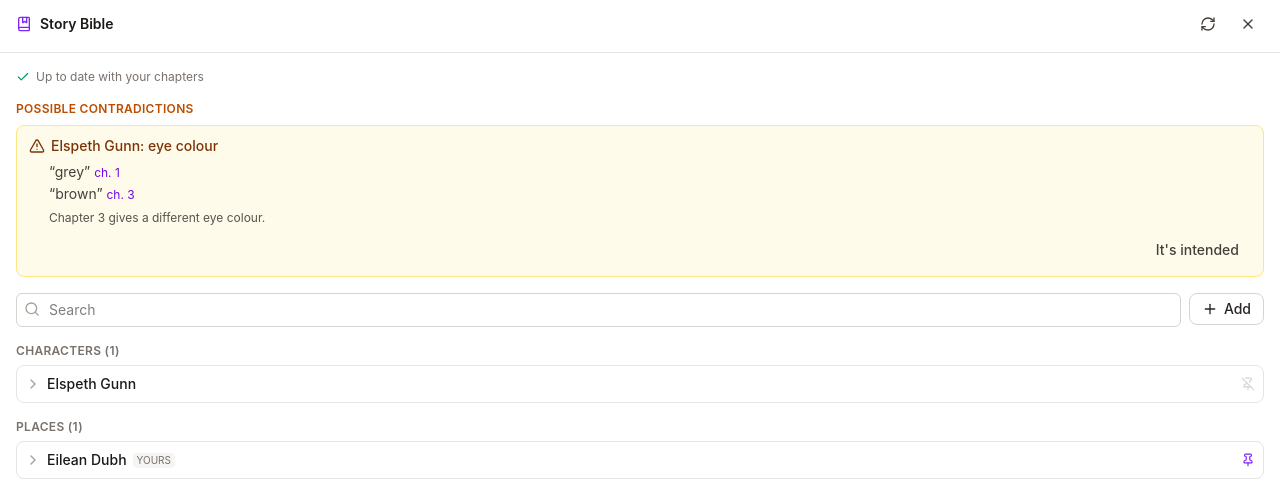
Test: StoryBiblePanel › groups entries by kind and filters them with search
Check: the heading "Characters (1)" is shown, box [16,343,120,358]
Check: the heading "Places (1)" is shown, box [16,419,83,434]
Type "island" into the search field named "Search the Story Bible".
click(598, 310); type("island")  # box [16,293,1181,327]
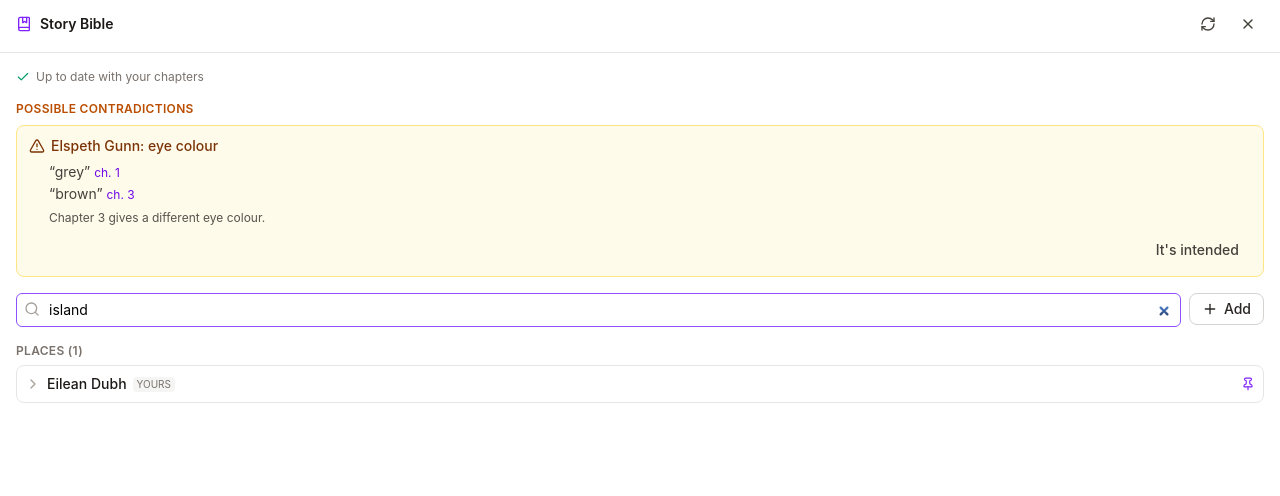
Check: the text "Eilean Dubh" is shown, box [47,374,127,394]
Check: the heading "Characters (1)" is gone
